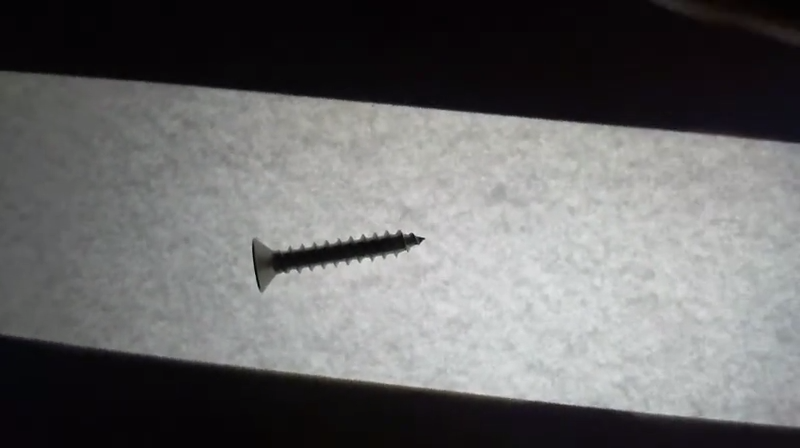S001: (247, 226, 429, 294)
